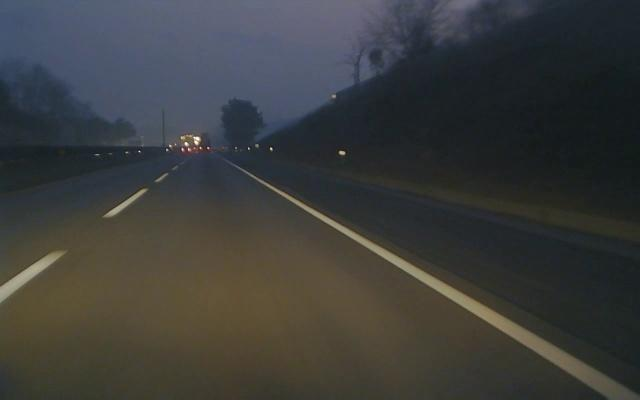lane: (241, 165, 640, 400), (0, 158, 187, 306)
